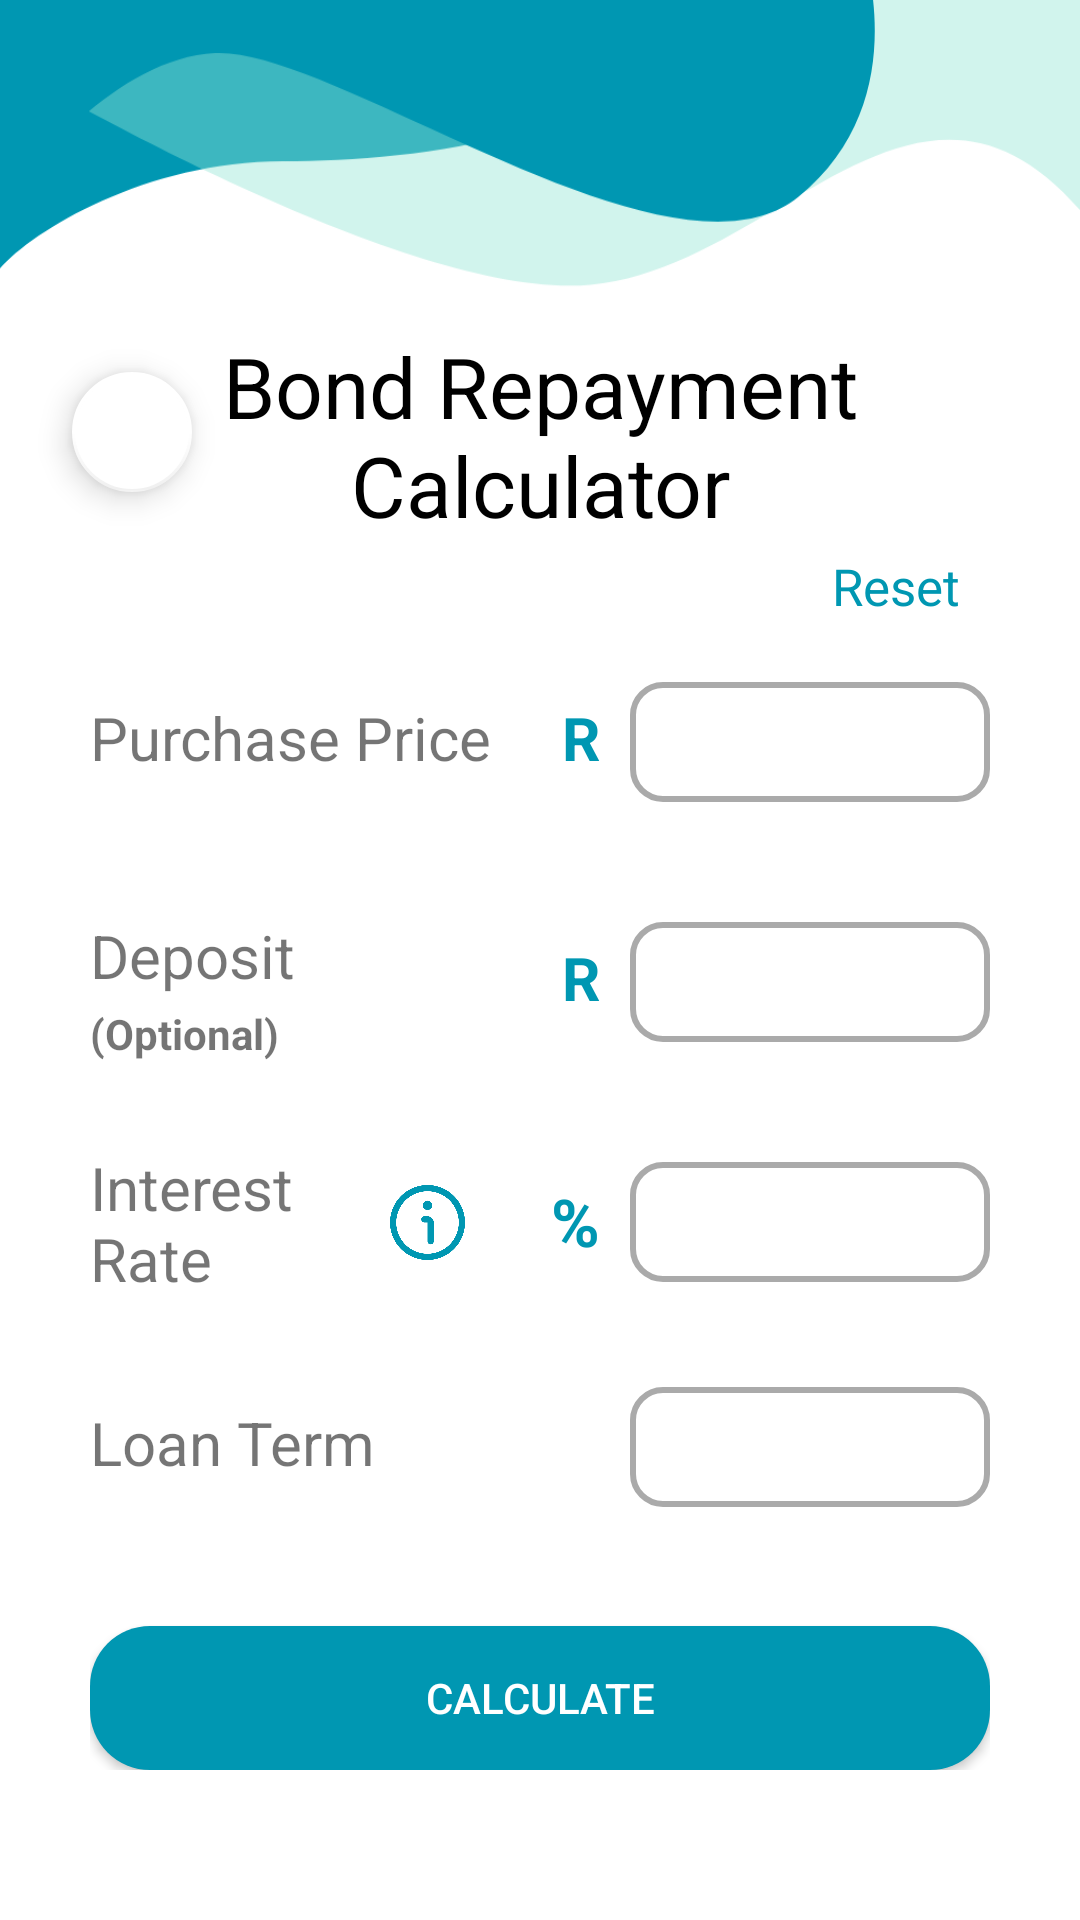

Where icons sit on this 1080px×1920px app screen, as (x1, y1, x2, y2):
info: (390, 1185, 465, 1260)
